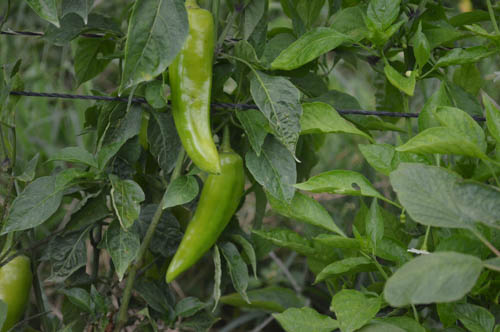ChiliPepper: (168, 155, 246, 283), (170, 9, 220, 177)
